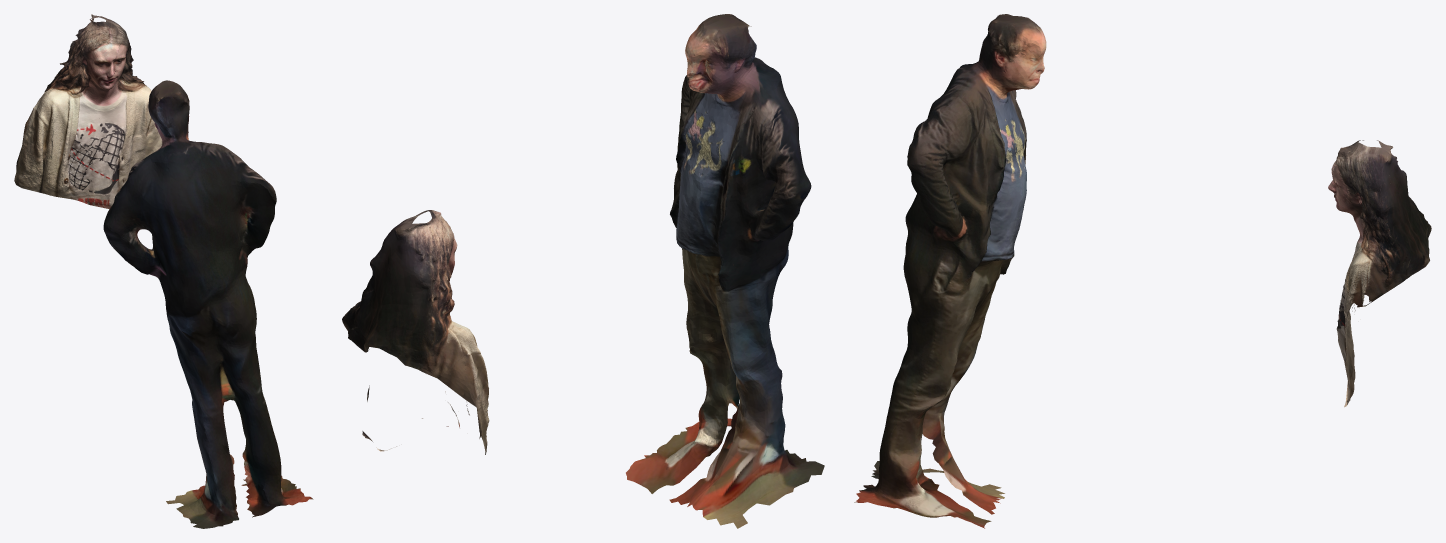
The model's file is animation.glb.
3 renders of one model, left to right at view 1: azimuth 30°, elevation 25°; view 2: azimuth 150°, elevation 25°; view 3: azimuth 270°, elevation 25°, orthographic. The views are drawn at different scales.
Visible parts, largest first — view 1: Mesh_0, Mesh_0.001; view 2: Mesh_0, Mesh_0.001; view 3: Mesh_0, Mesh_0.001.
Boxes of the visible parts, x1,y1,x2,y2 form: Mesh_0: (103,80,313,528); Mesh_0.001: (14,14,162,208); Mesh_0: (626,14,824,528); Mesh_0.001: (342,210,489,454); Mesh_0: (854,14,1046,528); Mesh_0.001: (1328,140,1431,407).
Size of the model in its own units: 1.77 by 3.29 by 3.64.
Materials: 2 (2 with a texture image).
